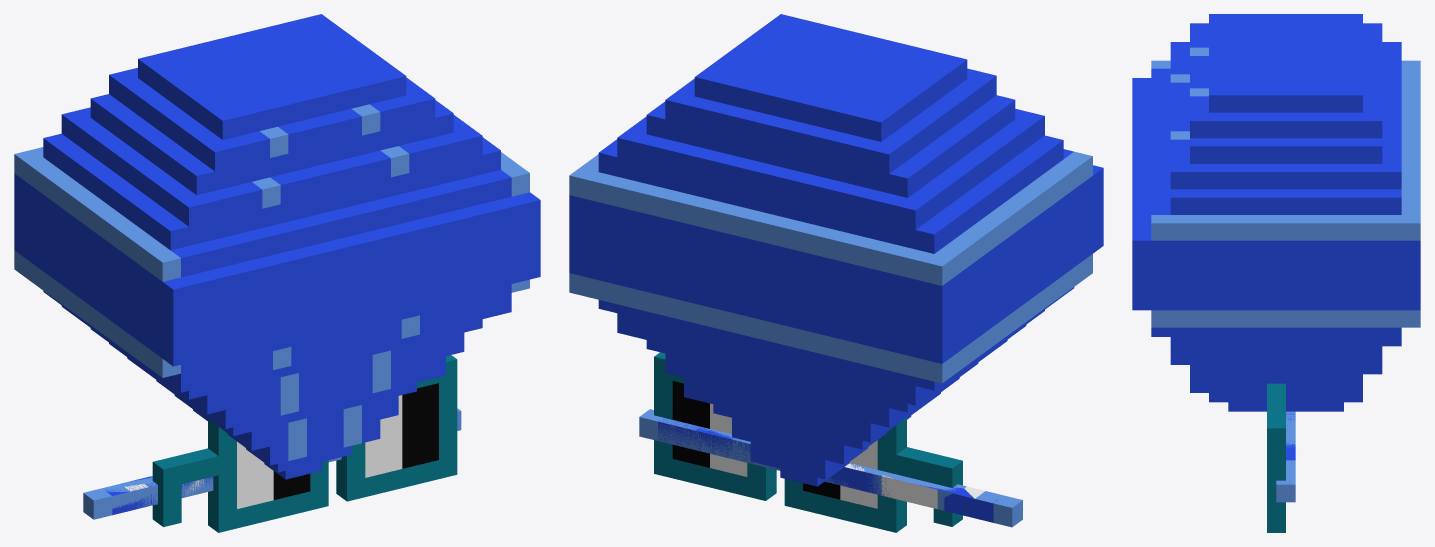
Rendered from diamond.glb.
3 renders of one model, left to right at view 1: azimuth 30°, elevation 25°; view 2: azimuth 150°, elevation 25°; view 3: azimuth 270°, elevation 25°, orthographic. The views are drawn at different scales.
Visible parts, largest first — view 1: base, glasses, layer-2, b1, t1, t3; view 2: base, glasses, t1, layer-2, t3, t5, b1; view 3: base, glasses, t1, b1.
Part boxes in pixels (x1,y1,x2,y2): base: (14, 14, 540, 479); glasses: (152, 355, 457, 532); layer-2: (237, 383, 438, 508); b1: (86, 410, 460, 519); t1: (83, 408, 461, 519); t3: (105, 459, 336, 515); base: (569, 14, 1103, 486); glasses: (654, 352, 962, 532); t1: (639, 409, 1022, 527); layer-2: (672, 381, 877, 508); t3: (658, 418, 997, 522); t5: (695, 428, 895, 495); b1: (639, 409, 1021, 526); base: (1132, 14, 1420, 411); glasses: (1267, 383, 1285, 532); t1: (1276, 437, 1295, 502); b1: (1276, 412, 1295, 484).
Size of the model in its own units: 20 by 23 by 15.
7 materials, 7 textured.
